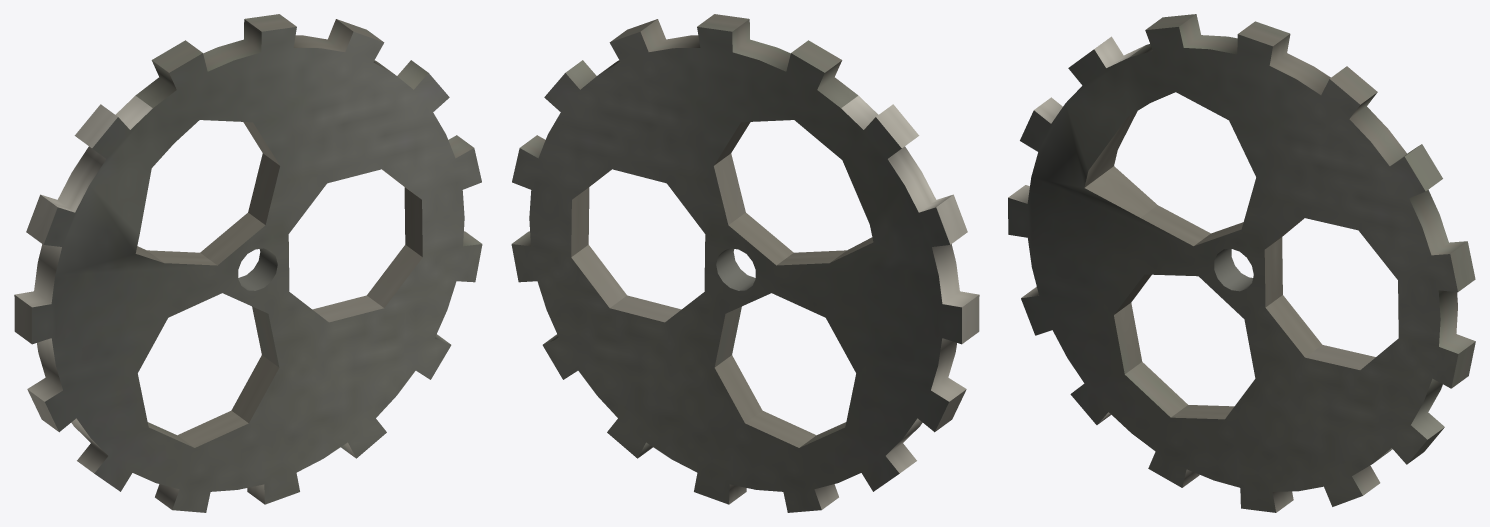
File: center.obj
3 views of the same model, side by side, from view 1: azimuth 30°, elevation 25°; view 2: azimuth 150°, elevation 25°; view 3: azimuth 330°, elevation 25° (orthographic).
Visible parts, largest first — view 1: centerGear; view 2: centerGear; view 3: centerGear.
Boxes of the visible parts, x1,y1,x2,y2 form: centerGear: (14,14,482,512); centerGear: (511,14,979,512); centerGear: (1008,14,1475,512).
Bounding box in the file's own units: 0.732 × 0.7356 × 0.0877.
1 material, 1 textured.
